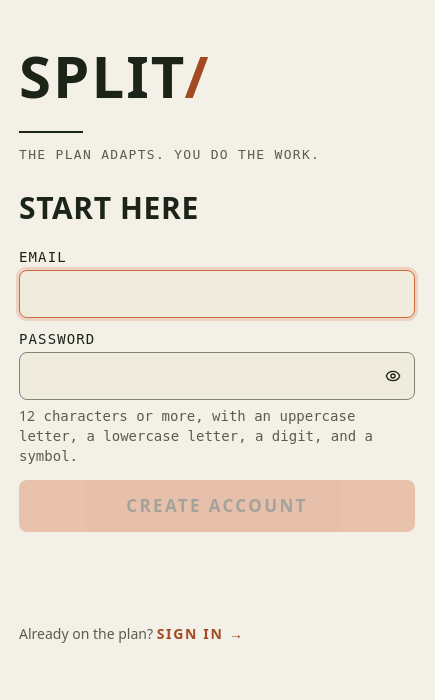
RegisterPage › server-side error surfacing › surfaces a distinct alert when register succeeds but the auto-login step fails
In the field labelled "Email": (217, 294) [19,270,415,318], type "runner@example.com"
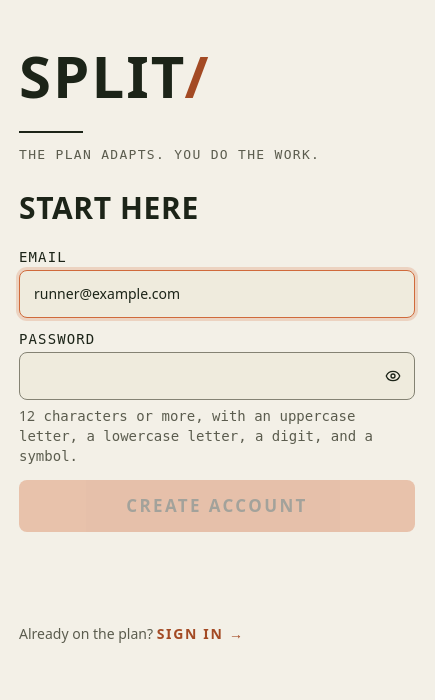
In the password field labelled "Password": (217, 376) [19,352,415,400], type "StrongPassw0rd!"
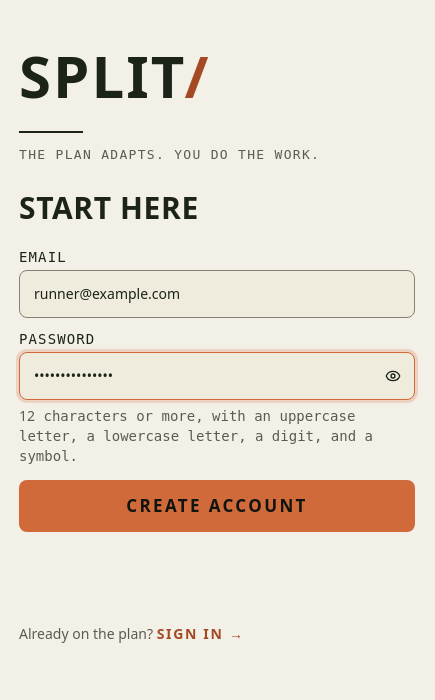
Expected: the button "Create account" is enabled
Click the button "Create account": (217, 506) [19,480,415,532]
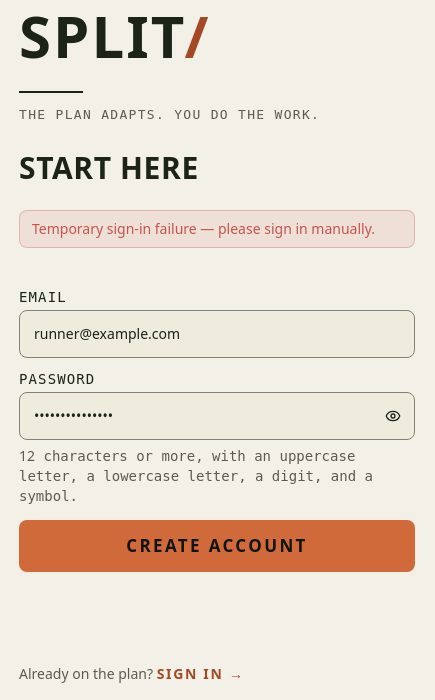
Expected: the message with test id "form-alert" shows "Temporary sign-in failure", [32,219,375,238]
